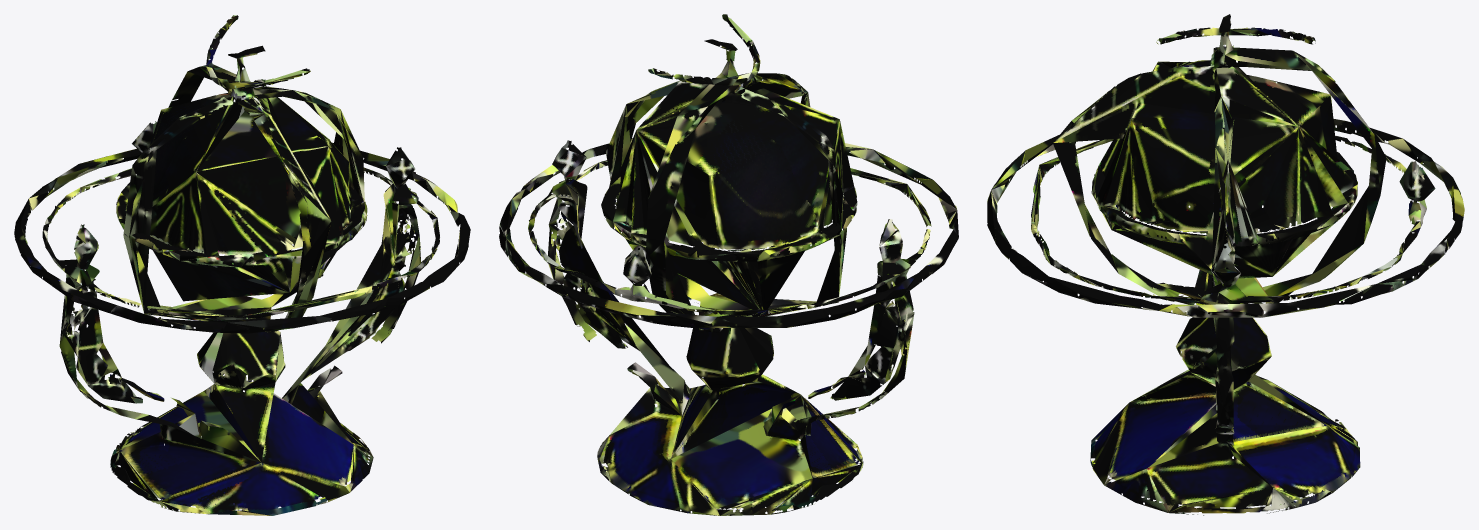
File: StarMap.glb
The picture shows the model from 3 angles, left to right: view 1: azimuth 30°, elevation 25°; view 2: azimuth 150°, elevation 25°; view 3: azimuth 270°, elevation 25°; orthographic projection. The views are drawn at different scales.
Parts seen in each view (by area): view 1: temp_mesh.ply; view 2: temp_mesh.ply; view 3: temp_mesh.ply.
Part boxes in pixels (x1=…): temp_mesh.ply: x1=14, y1=15, x2=470, y2=515; temp_mesh.ply: x1=499, y1=14, x2=958, y2=515; temp_mesh.ply: x1=987, y1=14, x2=1464, y2=515.
Size of the model in its own units: 0.3948 by 0.4 by 0.3932.
Materials: 1 (1 with a texture image).
